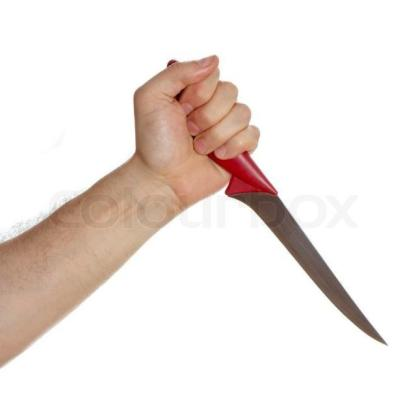Knife: (179, 80, 392, 350)
